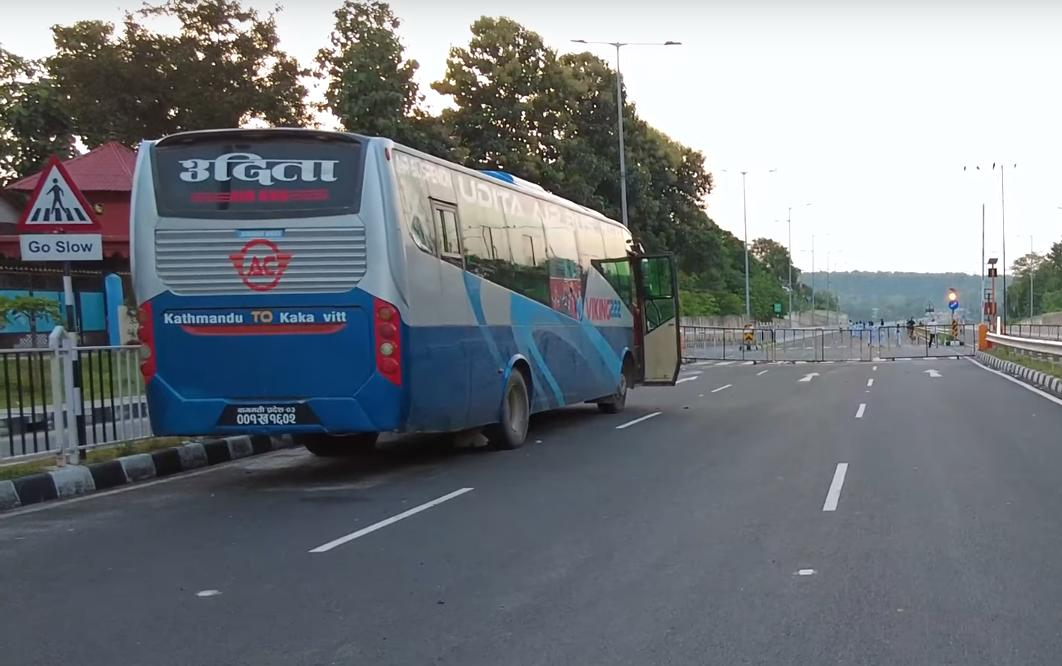bus: (126, 118, 683, 471)
